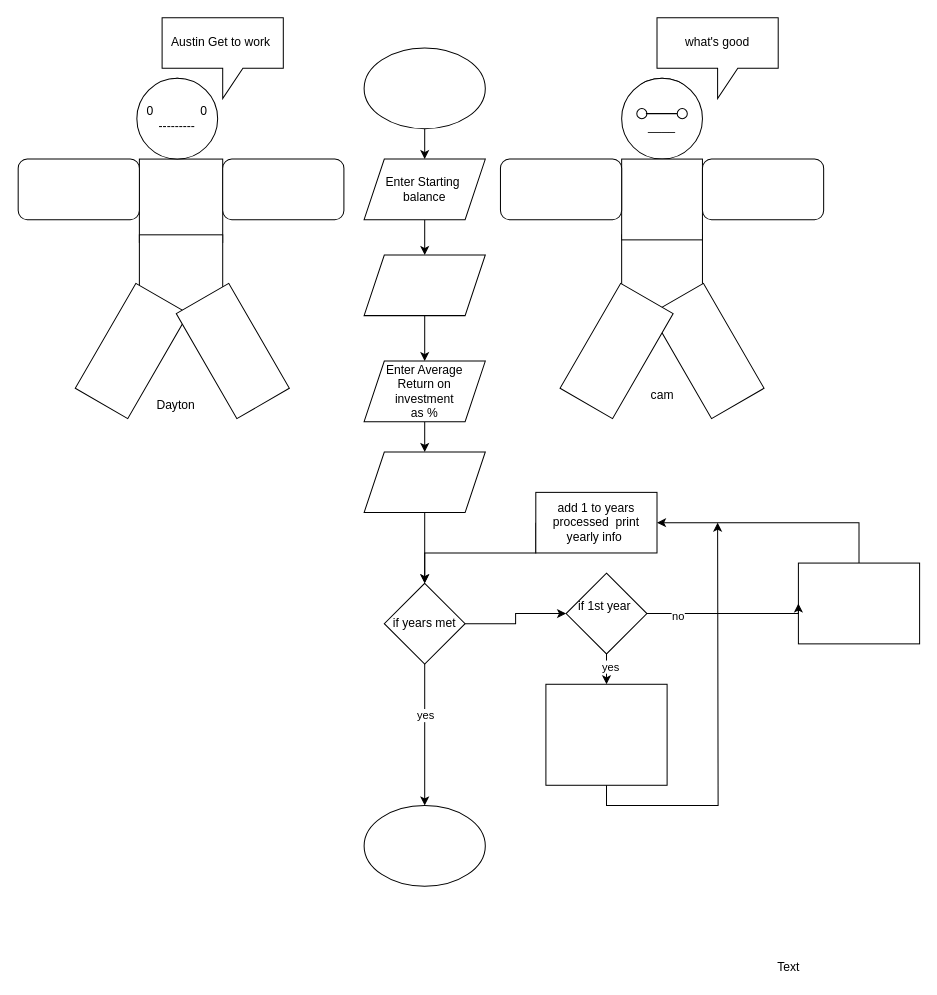
Image size: 937x995. Some labels were removed from this diagram. Here are the shapes that lost their labels. From the top down, the centre of each, then its label:
At [424,88]: "start".
At [424,285]: "Enter yearly contribution".
At [424,482]: "Enter number of years".
At [858,603]: "existing balance total + yearly CONT * ARI = INT + to existing balance total".
At [606,734]: "Starting Balance + yearly CONT * ARI = INT + to existing balance total".
At [424,845]: "end".
